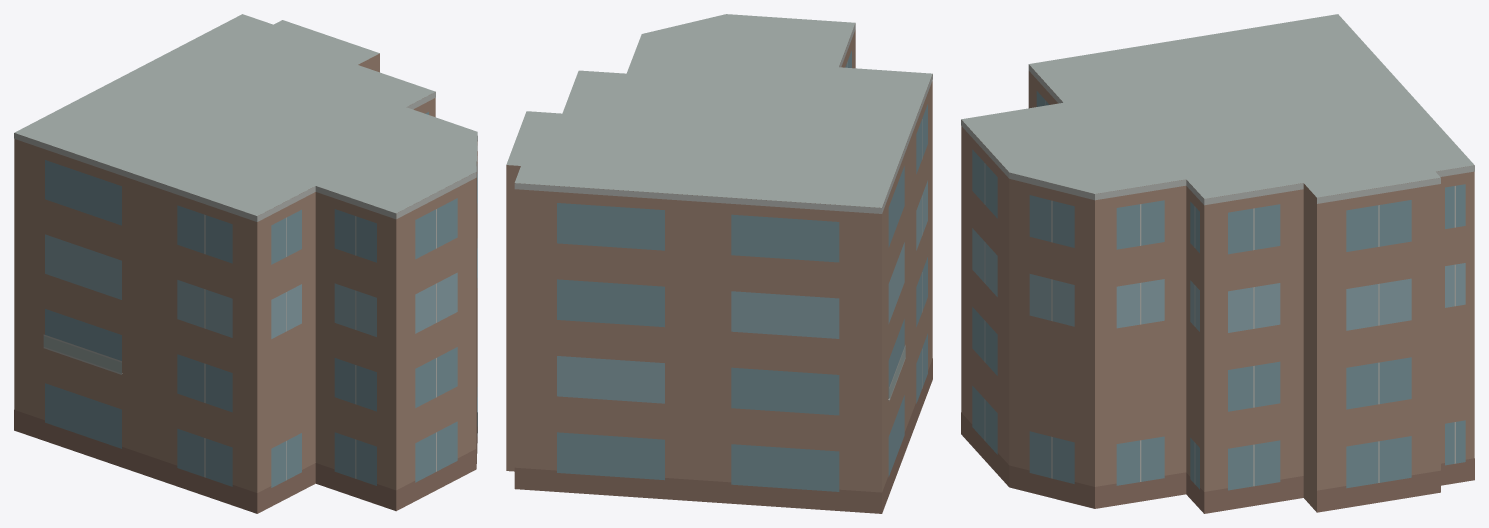
File: residential-51ce12cd-87cd-4e1b-a2df-4cc138bef230.glb
The picture shows the model from 3 angles, left to right: view 1: azimuth 30°, elevation 25°; view 2: azimuth 150°, elevation 25°; view 3: azimuth 270°, elevation 25°; orthographic projection. The views are drawn at different scales.
Visible parts, largest first — view 1: residential-51ce12cd-87cd-4e1b-a2df-4cc138bef230.tmp; view 2: residential-51ce12cd-87cd-4e1b-a2df-4cc138bef230.tmp; view 3: residential-51ce12cd-87cd-4e1b-a2df-4cc138bef230.tmp.
Part boxes in pixels (left/top/right/bottom): residential-51ce12cd-87cd-4e1b-a2df-4cc138bef230.tmp: left=14, top=14, right=477, bottom=513; residential-51ce12cd-87cd-4e1b-a2df-4cc138bef230.tmp: left=506, top=14, right=932, bottom=513; residential-51ce12cd-87cd-4e1b-a2df-4cc138bef230.tmp: left=961, top=14, right=1474, bottom=513.
Size of the model in its own units: 15.38 by 12.2 by 18.04.
